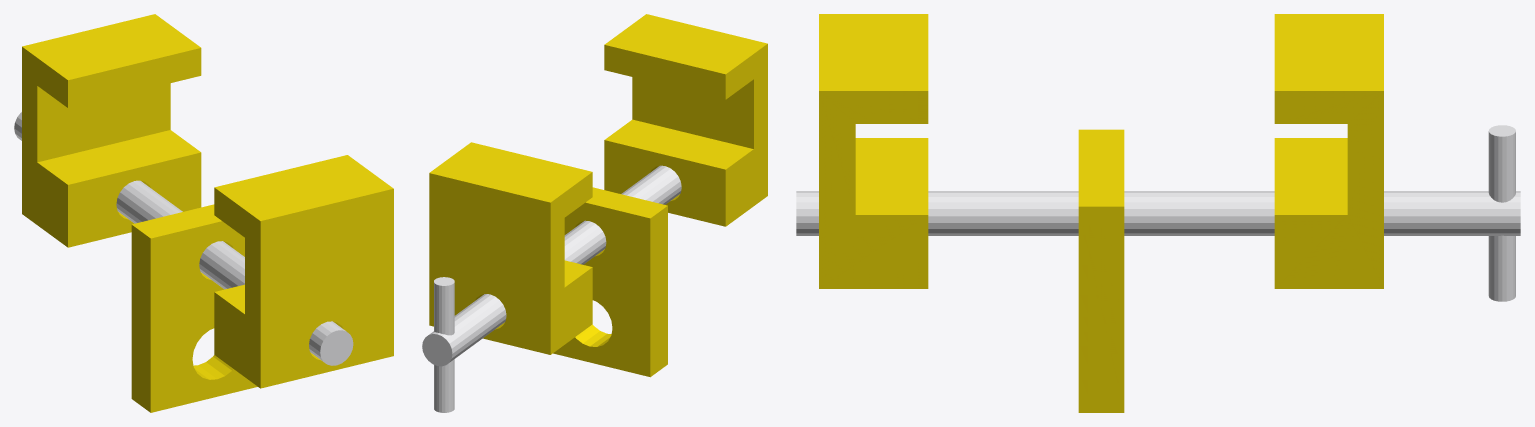
Rendered from clamp-girder-200.glb.
3 views of the same model, side by side, from view 1: azimuth 30°, elevation 25°; view 2: azimuth 150°, elevation 25°; view 3: azimuth 270°, elevation 25° (orthographic). The views are drawn at different scales.
Visible parts, largest first — view 1: body, jaw; view 2: body, jaw; view 3: body, jaw.
Boxes of the visible parts, x1=… form: body: x1=14, y1=112, x2=393, y2=412; jaw: x1=22, y1=14, x2=201, y2=247; body: x1=422, y1=14, x2=767, y2=412; jaw: x1=429, y1=142, x2=592, y2=354; body: x1=796, y1=14, x2=1520, y2=412; jaw: x1=1274, y1=14, x2=1383, y2=288.
Size of what is drawn, in the model's own units: 0.08 by 0.156 by 0.318.
